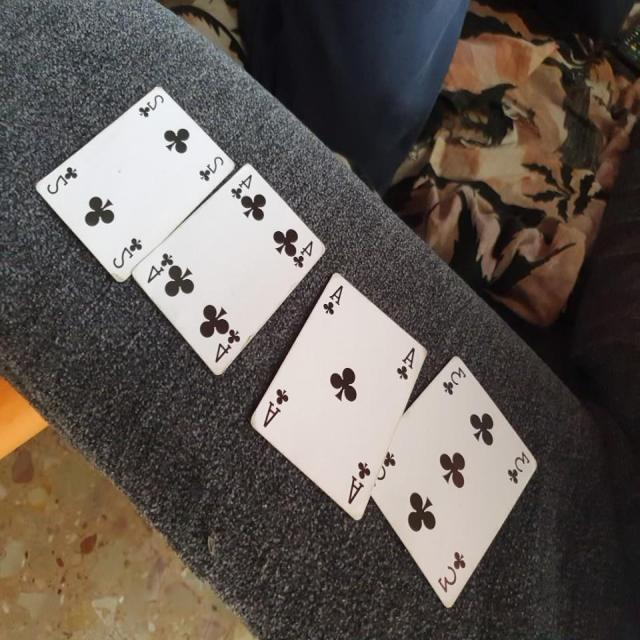2 of clubs: (34, 86, 234, 283)
3 of clubs: (370, 356, 540, 608)
4 of clubs: (130, 162, 326, 378)
ace of clubs: (248, 271, 428, 524)
